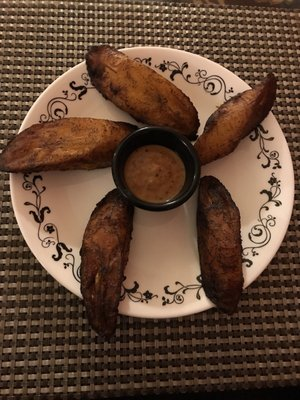sushi: (111, 127, 200, 212)
